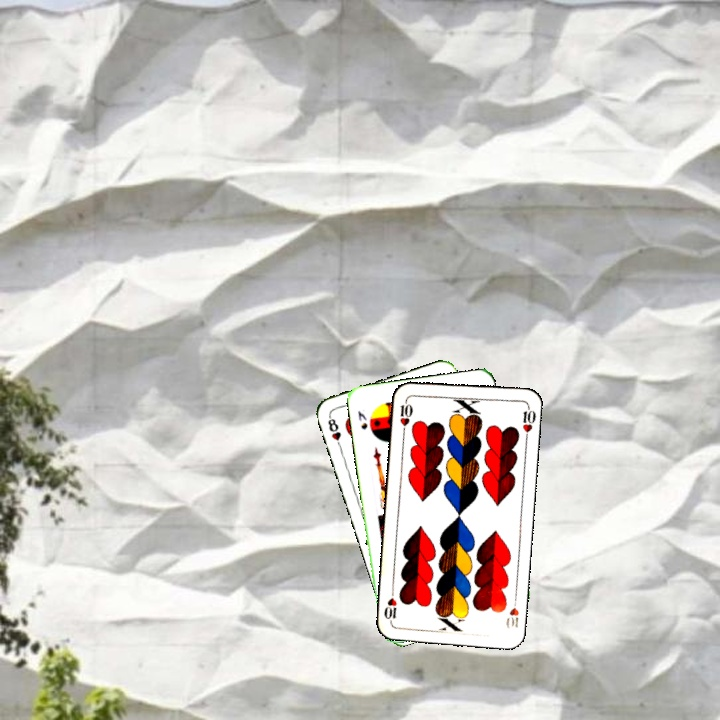H10: (396, 395, 415, 436), (502, 592, 521, 630)
H8: (324, 412, 344, 451)
SK: (354, 407, 370, 432)
